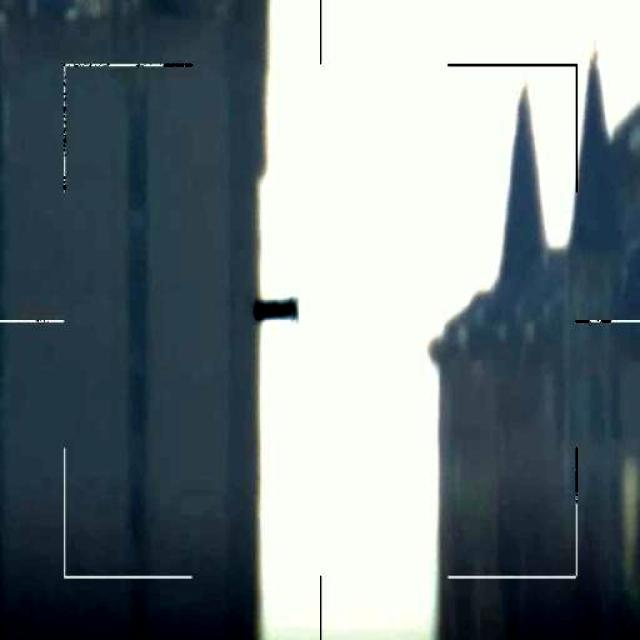bird: (248, 296, 299, 330)
